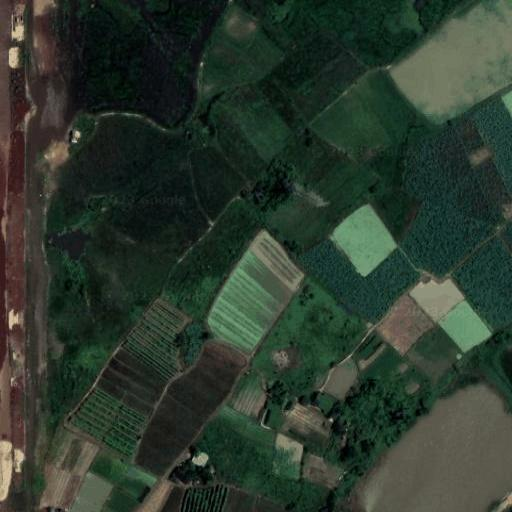building: (190, 451, 210, 469)
